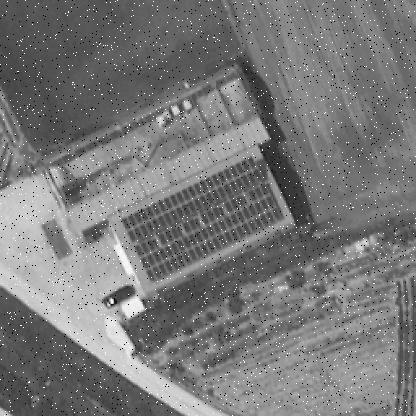solar-pv-panel: (135, 183, 285, 281), (121, 155, 265, 241)
